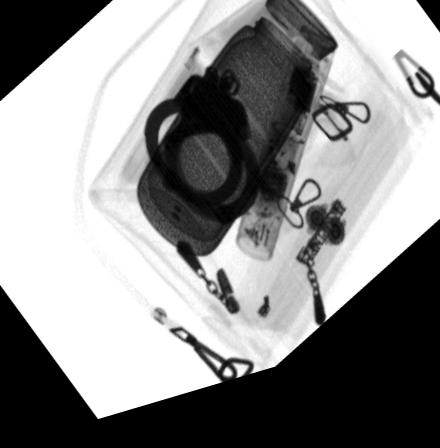Baton: (233, 42, 337, 279)
HandCuffs: (141, 77, 262, 239)
